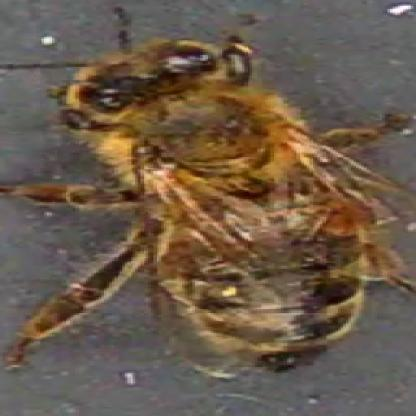bee: (47, 48, 391, 361)
